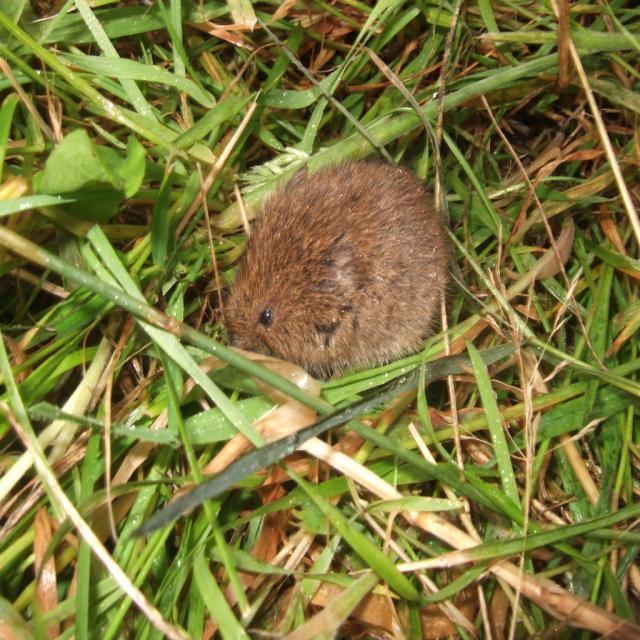rat: (218, 158, 454, 372)
